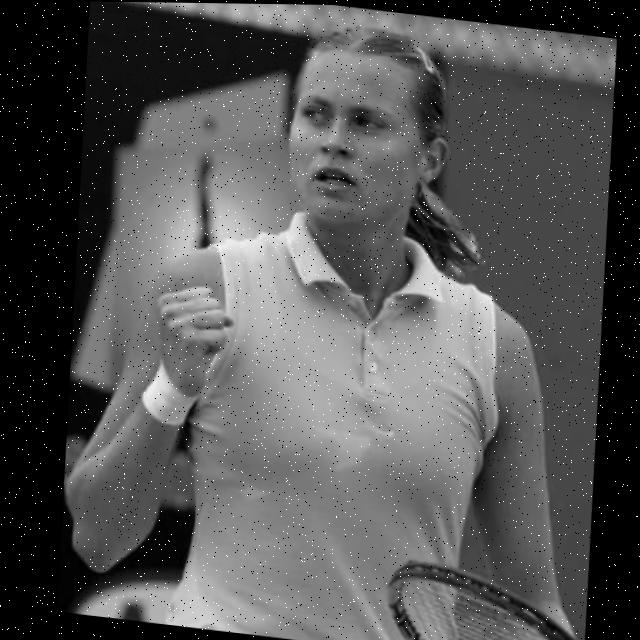face: (270, 21, 433, 249)
